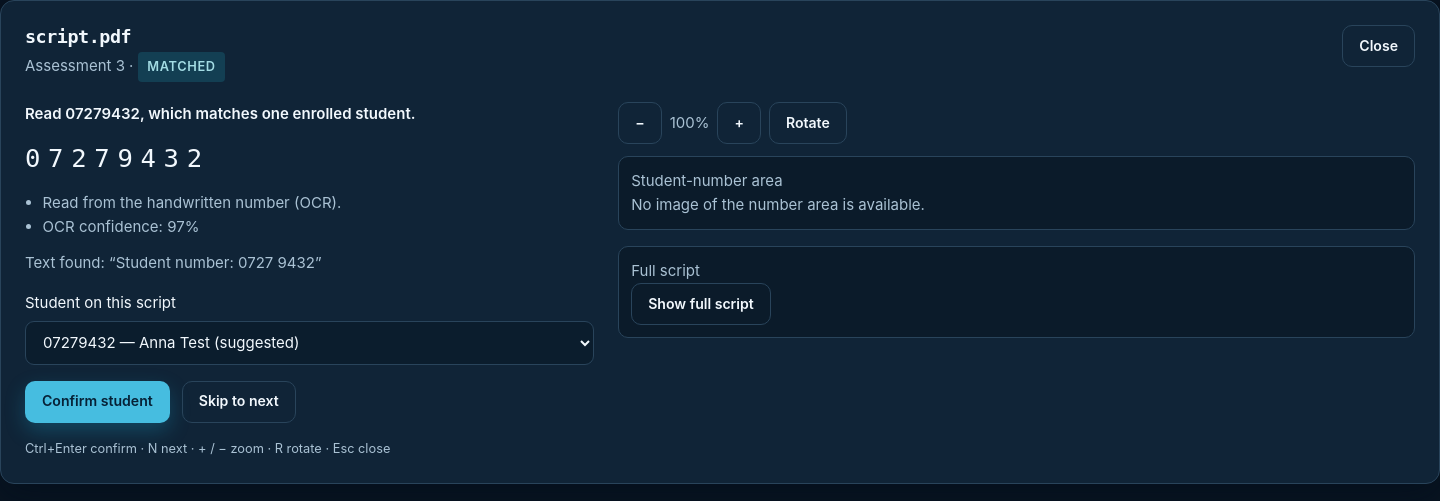
Scenario: SubmissionReviewPanel › handles missing previews
Check: the text "No image of the number area is available." is shown, box [631, 195, 925, 214]
Click the button with test id "show-script" at [701, 304], box [631, 283, 771, 325]
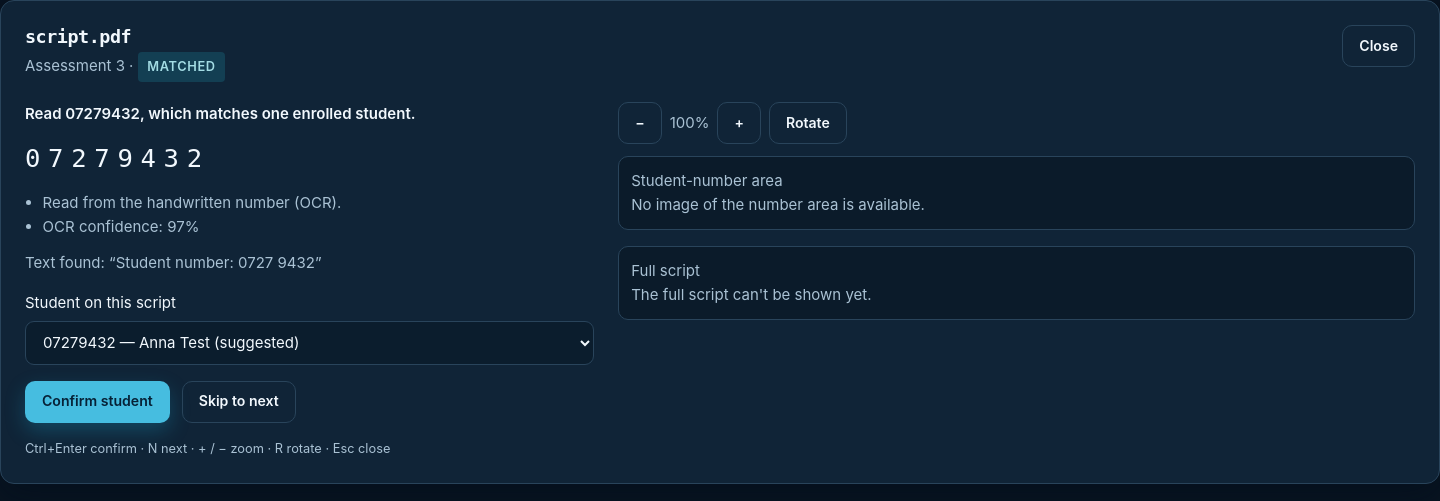
Check: the text "The full script can't be shown yet." is shown, box [631, 285, 872, 304]
